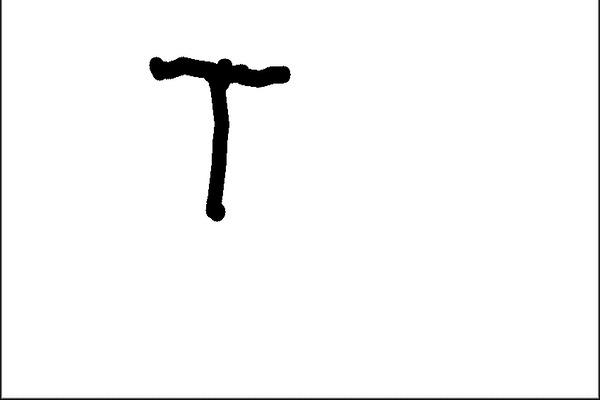T: (145, 47, 291, 225)
